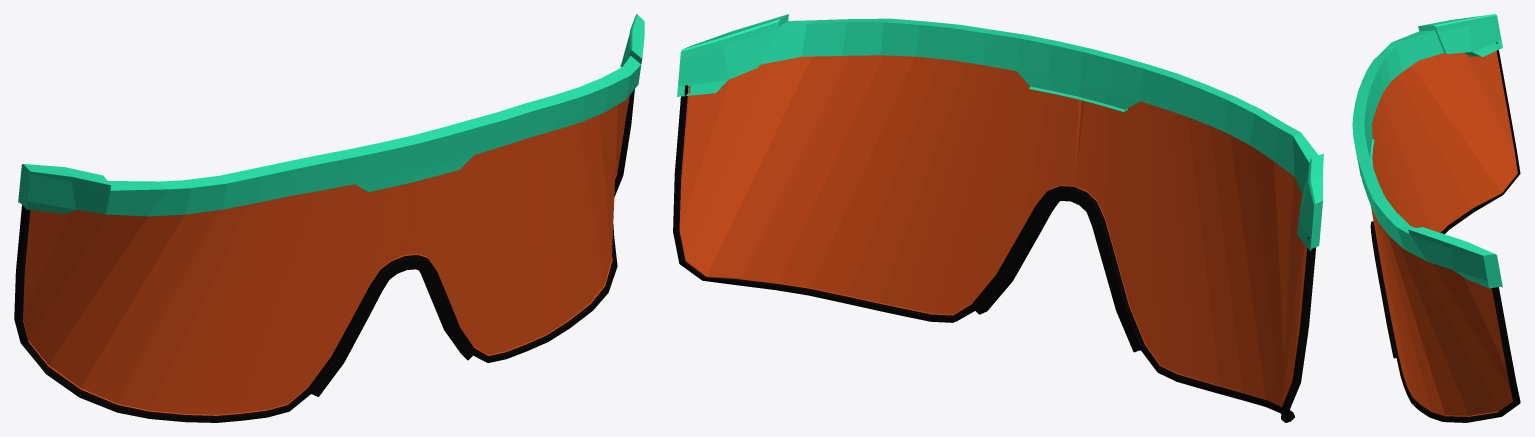
The model's file is Naocare 2.fbx.
The picture shows the model from 3 angles, left to right: view 1: azimuth 30°, elevation 25°; view 2: azimuth 150°, elevation 25°; view 3: azimuth 270°, elevation 25°; orthographic projection. The views are drawn at different scales.
Parts seen in each view (by area): view 1: Plane.001, Plane; view 2: Plane.001, Plane; view 3: Plane.001, Plane.
Boxes of the visible parts, left/top/right/bottom form: Plane.001: left=14, top=89, right=634, bottom=422; Plane: left=18, top=14, right=644, bottom=216; Plane.001: left=673, top=55, right=1316, bottom=422; Plane: left=677, top=14, right=1323, bottom=251; Plane.001: left=1370, top=42, right=1520, bottom=422; Plane: left=1352, top=14, right=1502, bottom=288.
Bounding box in the file's own units: 22.79 × 9.61 × 6.75.
